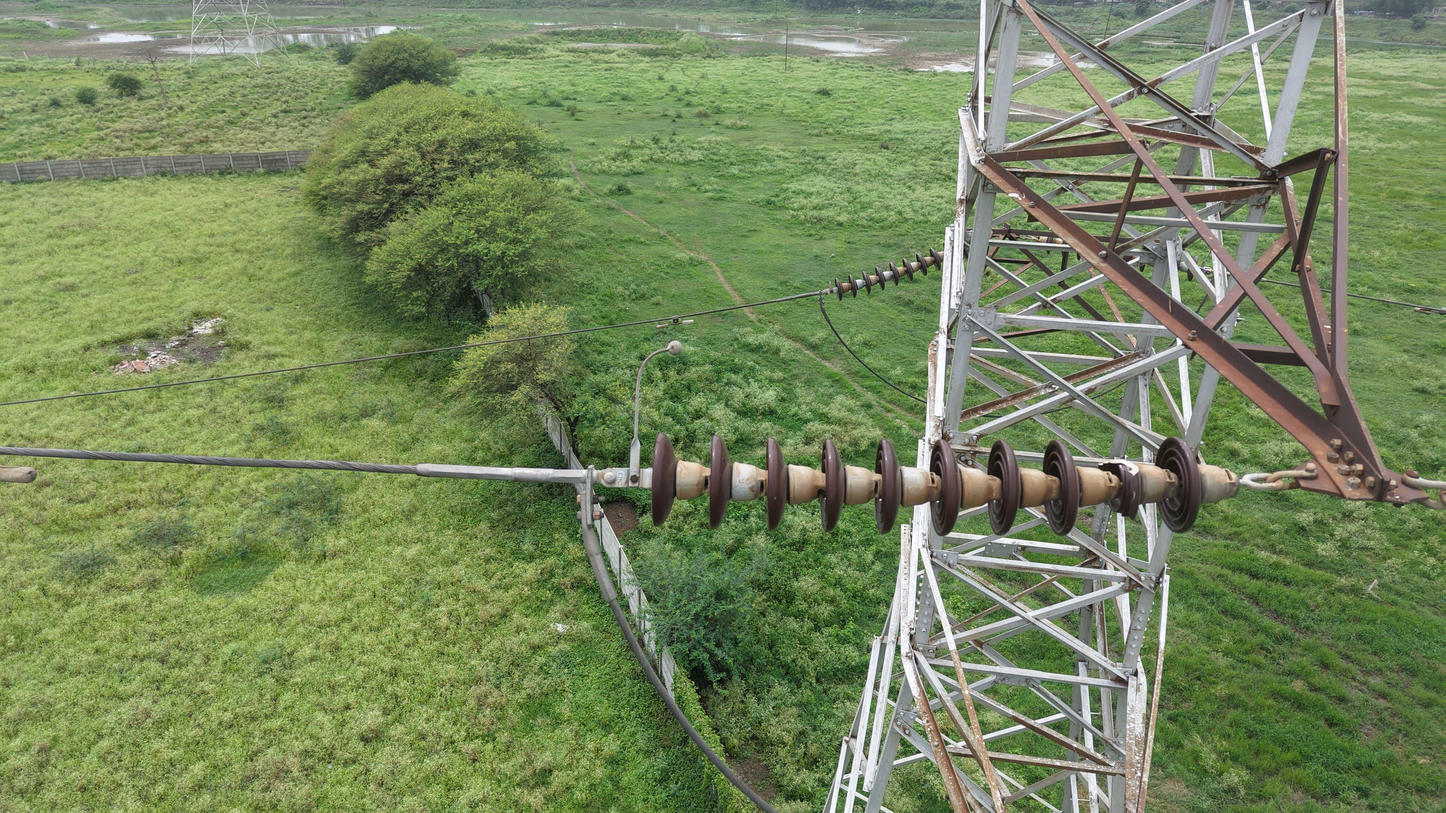broken_insulator: (1094, 433, 1154, 526)
